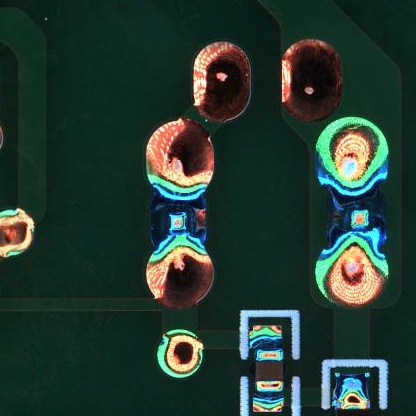spot: (328, 191, 389, 242), (149, 196, 207, 243)
